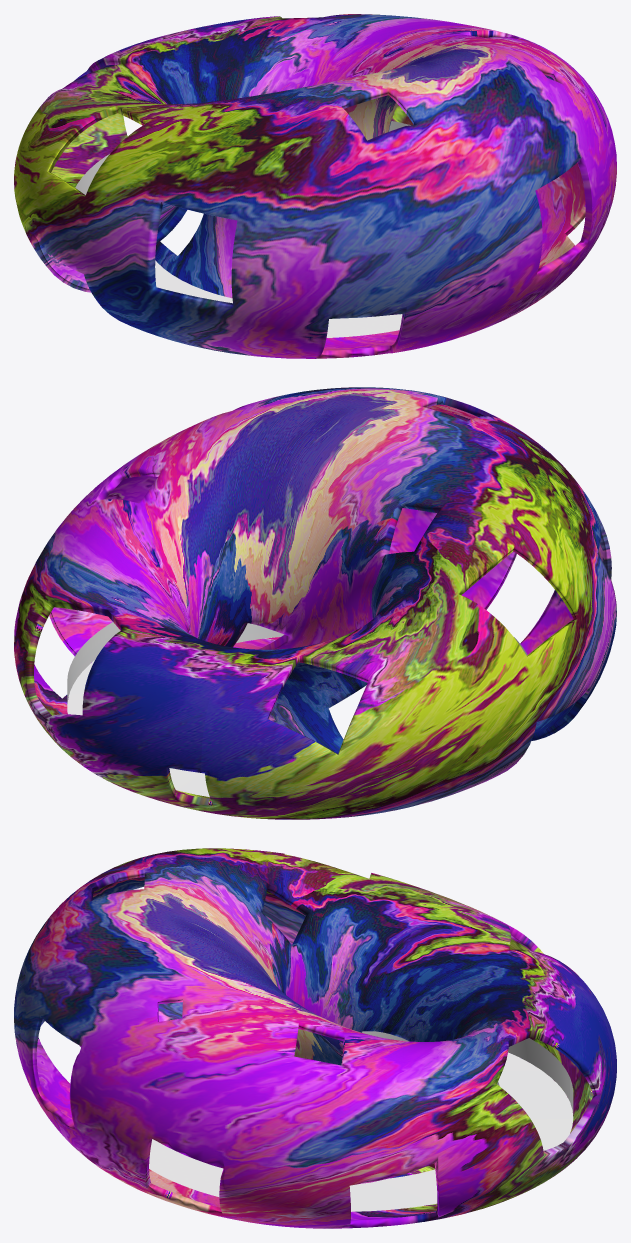
3 views of the same model, one above another, from view 1: azimuth 30°, elevation 25°; view 2: azimuth 150°, elevation 25°; view 3: azimuth 270°, elevation 25° (orthographic). The views are drawn at different scales.
Visible parts, largest first — view 1: Solids, Ramps_2, Ramps; view 2: Solids, Ramps, Ramps_2; view 3: Solids, Ramps_2, Ramps.
Part boxes in pixels (x1,y1,x2,y2): Solids: (14, 14, 616, 358); Ramps_2: (155, 260, 402, 337); Ramps: (75, 121, 410, 195); Solids: (14, 387, 616, 819); Ramps: (67, 622, 527, 703); Ramps_2: (67, 637, 271, 796); Solids: (14, 848, 616, 1228); Ramps_2: (149, 1052, 573, 1211); Ramps: (362, 1031, 573, 1114).
Size of the model in its own units: 31.84 by 14.85 by 33.28.
2 materials, 2 textured.
